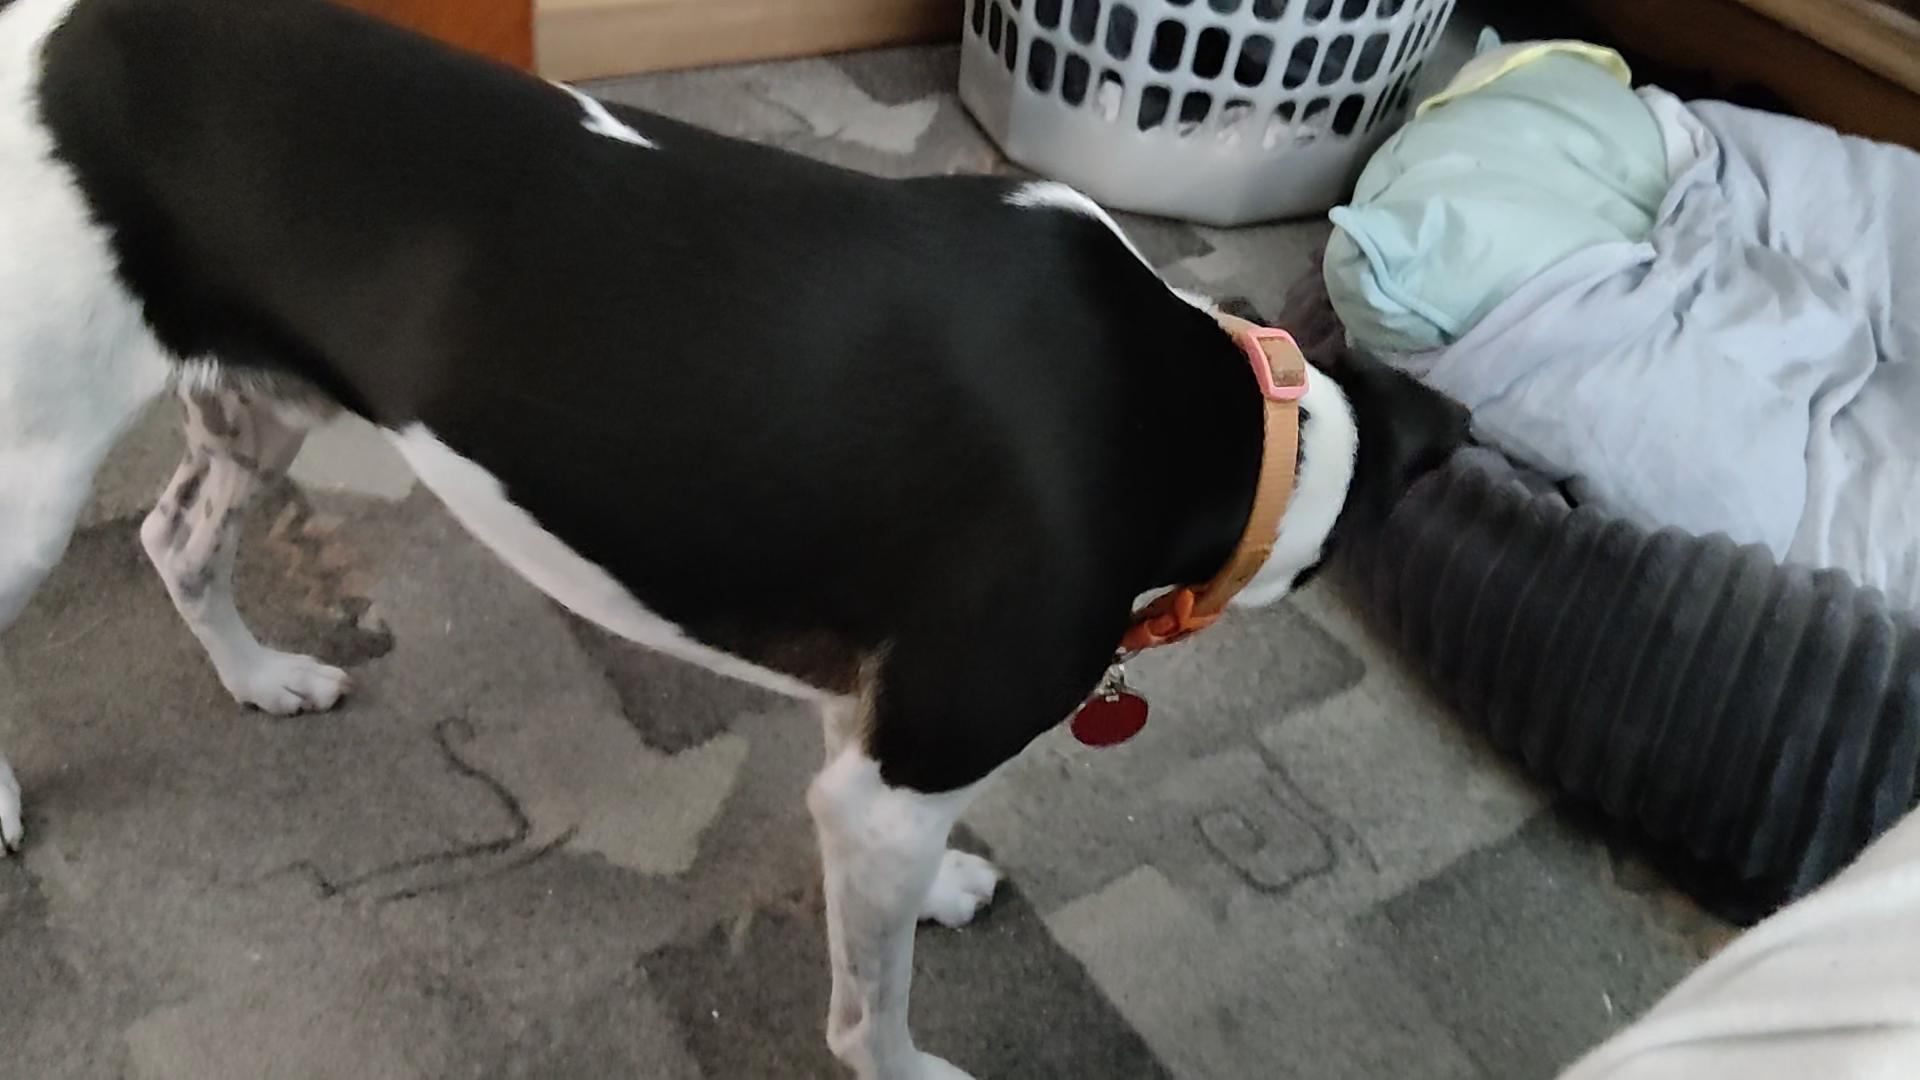Dog: (0, 0, 1472, 1080)
